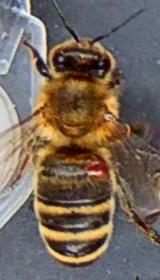varroa_mite: (76, 150, 118, 184)
